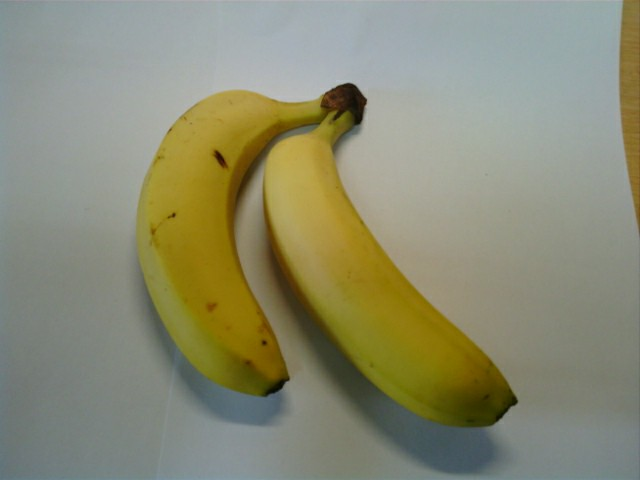fresh_banana: (267, 129, 518, 429)
normal_banana: (132, 89, 289, 397)
